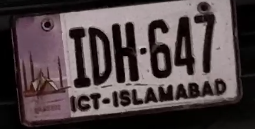IDH647: (4, 4, 248, 120)
